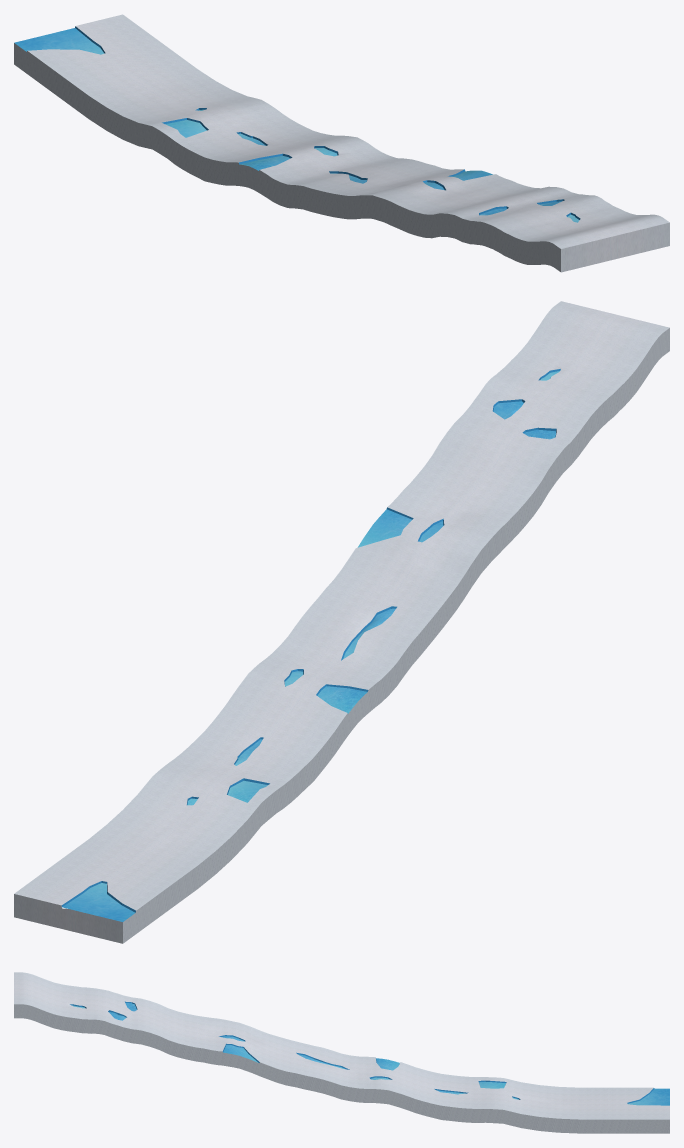
3 views of the same model, one above another, from view 1: azimuth 30°, elevation 25°; view 2: azimuth 150°, elevation 25°; view 3: azimuth 270°, elevation 25° (orthographic). The views are drawn at different scales.
Visible parts, largest first — view 1: Surface03, Surface03-bing; view 2: Surface03, Surface03-bing; view 3: Surface03, Surface03-bing.
Part boxes in pixels (<box>): Surface03: <box>14,14,669,272</box>; Surface03-bing: <box>14,26,580,222</box>; Surface03: <box>14,301,669,943</box>; Surface03-bing: <box>61,369,560,921</box>; Surface03: <box>14,972,669,1133</box>; Surface03-bing: <box>70,1001,669,1105</box>.
Bounding box in the file's own units: 20040 × 37908 × 174190.
